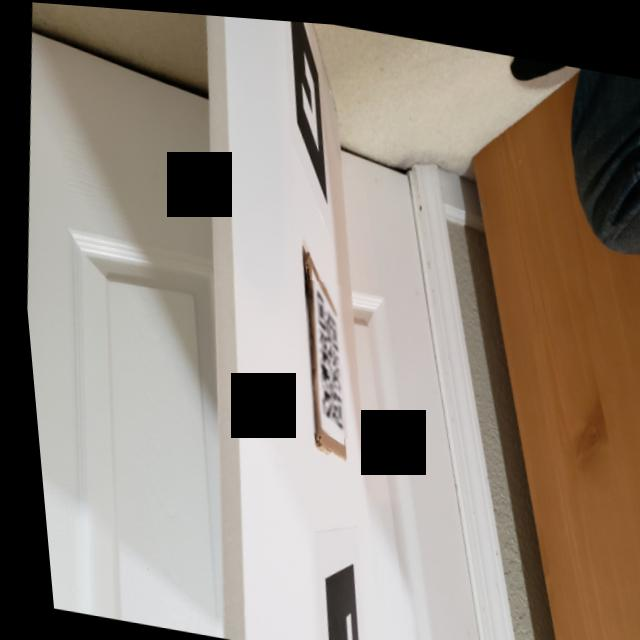QR_CODE: (284, 273, 356, 434)
